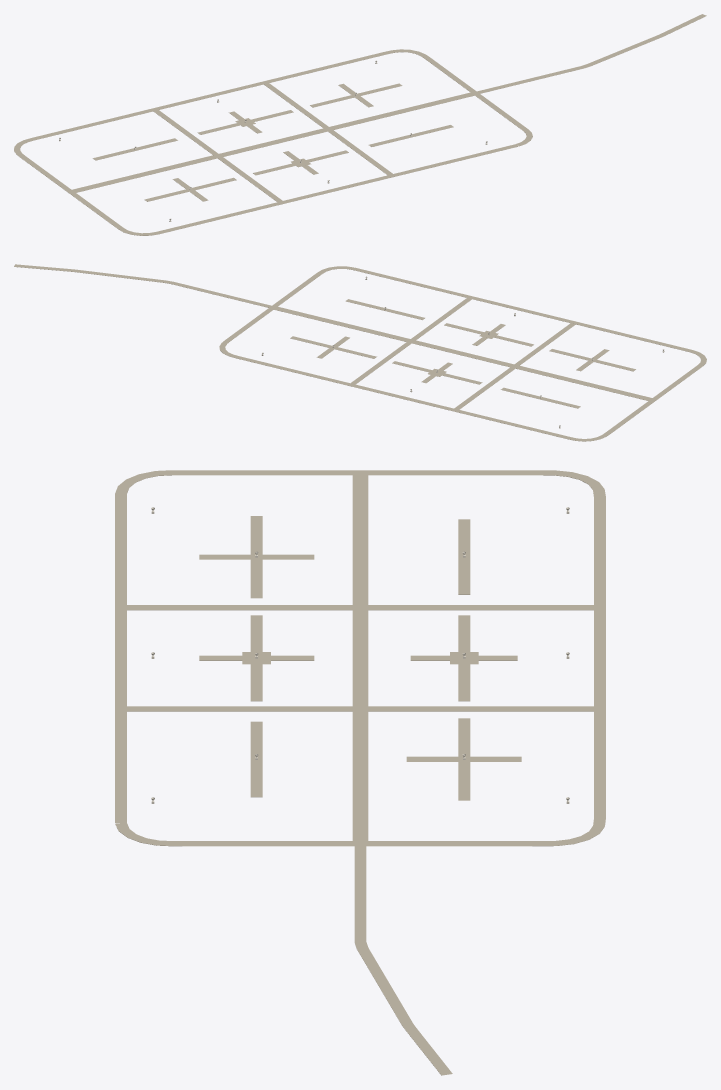
File: SM_BM_BHip_Infield.glb
3 views of the same model, one above another, from view 1: azimuth 30°, elevation 25°; view 2: azimuth 150°, elevation 25°; view 3: azimuth 270°, elevation 25° (orthographic). The views are drawn at different scales.
Parts seen in each view (by area): view 1: SM_BM_BHip_Infield; view 2: SM_BM_BHip_Infield; view 3: SM_BM_BHip_Infield.
Boxes of the visible parts, x1,y1,x2,y2 form: SM_BM_BHip_Infield: [14, 14, 706, 235]; SM_BM_BHip_Infield: [14, 264, 706, 441]; SM_BM_BHip_Infield: [115, 470, 605, 1075].
Bounding box in the file's own units: 359 × 1.49 × 123.
